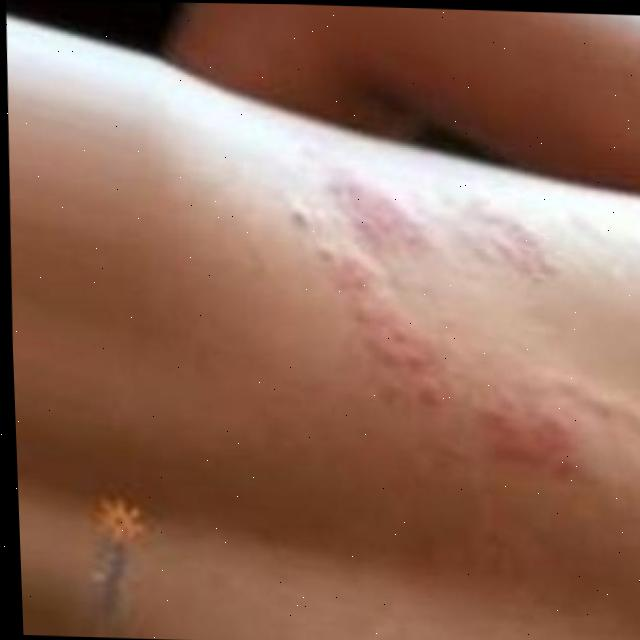Shingles: (316, 171, 592, 469)
